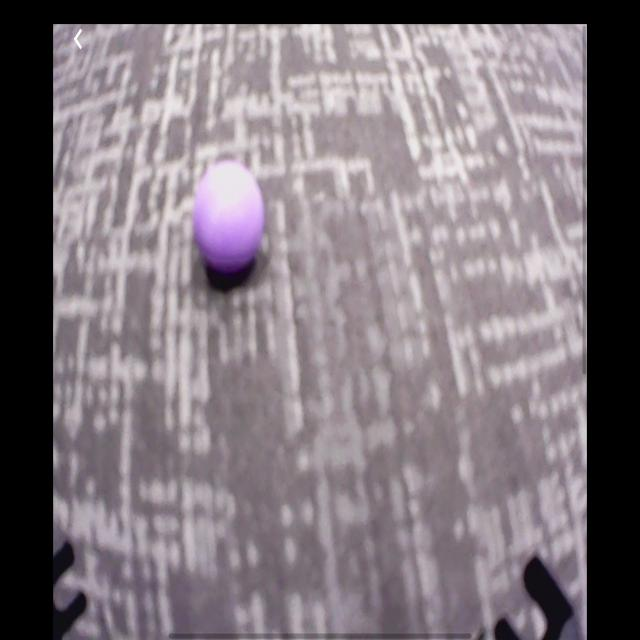ball: (195, 159, 266, 281)
